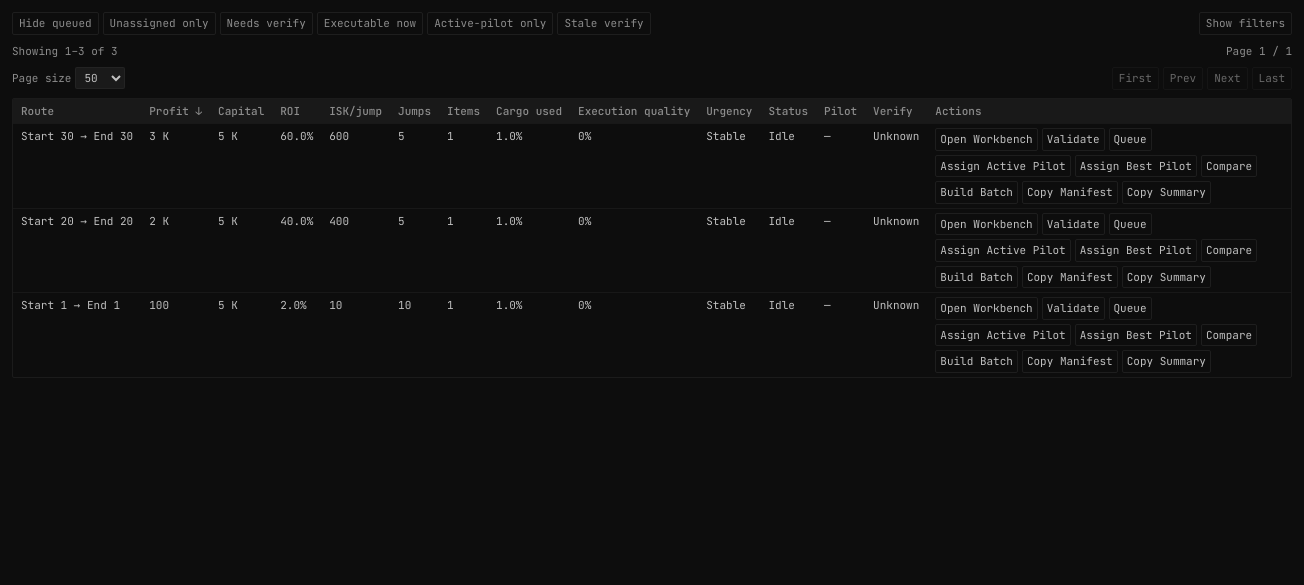
Test case: RadiusRouteGroupsPanel › applies text and numeric filters
Click the button "Show filters" at [1245, 23], box [1199,12,1292,34]
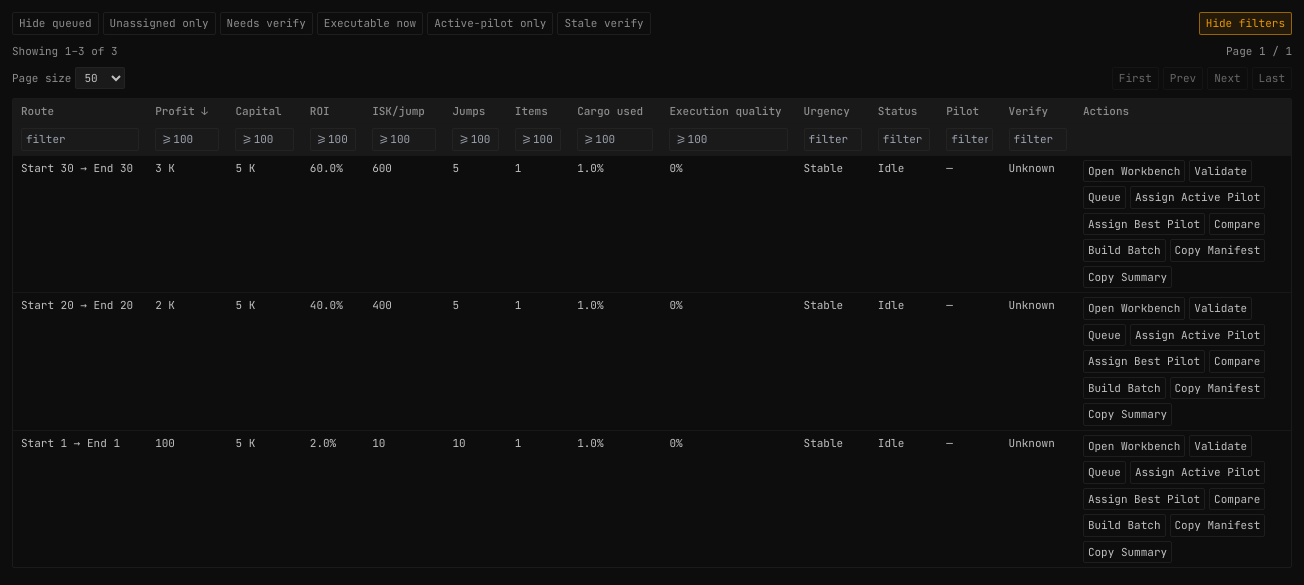
Type "start 2" into the field named "Route filter" at [80, 139], box [21,128,139,150]
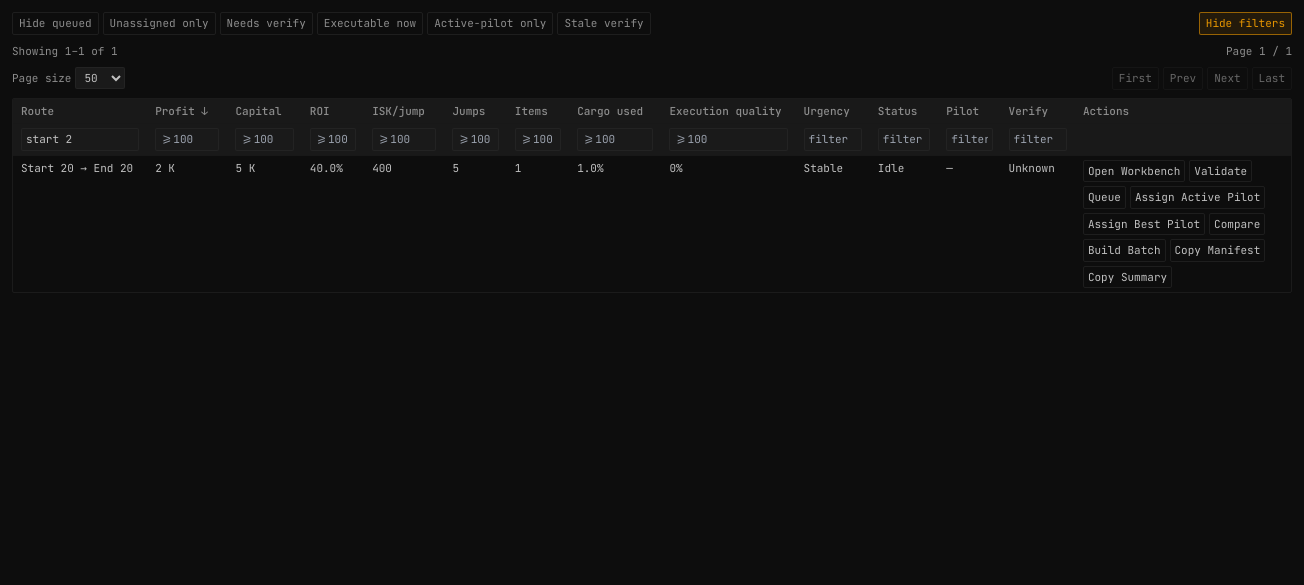
Check: the text "Start 20 → End 20" is shown, box [13,155,147,292]
Check: the text "Start 1 → End 1" is gone
Clear the field named "Route filter" at [80, 139], box [21,128,139,150]
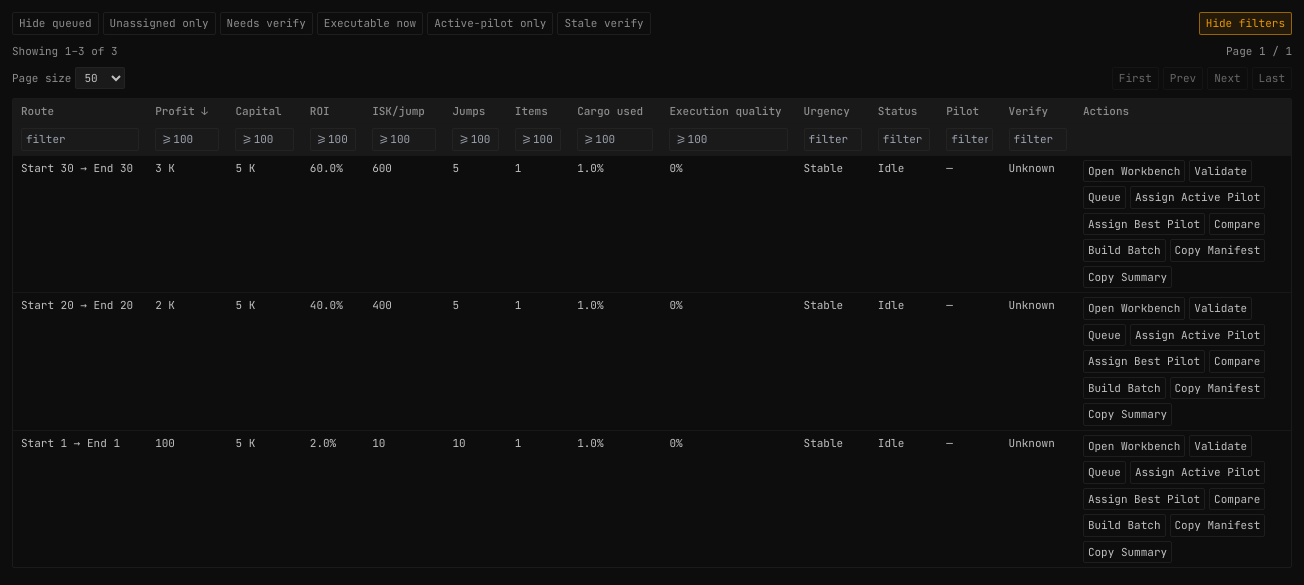
Type ">=2500" into the field named "Profit filter" at [187, 139], box [155,128,219,150]
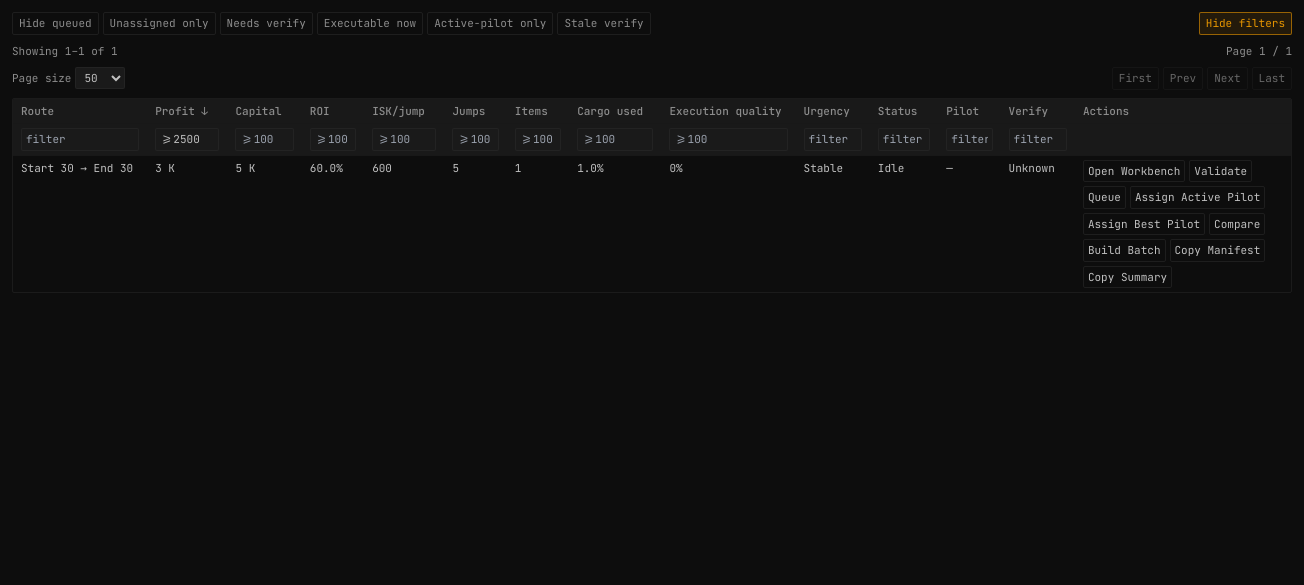
Check: the text "Start 30 → End 30" is shown, box [13,155,147,292]
Check: the text "Start 20 → End 20" is gone
